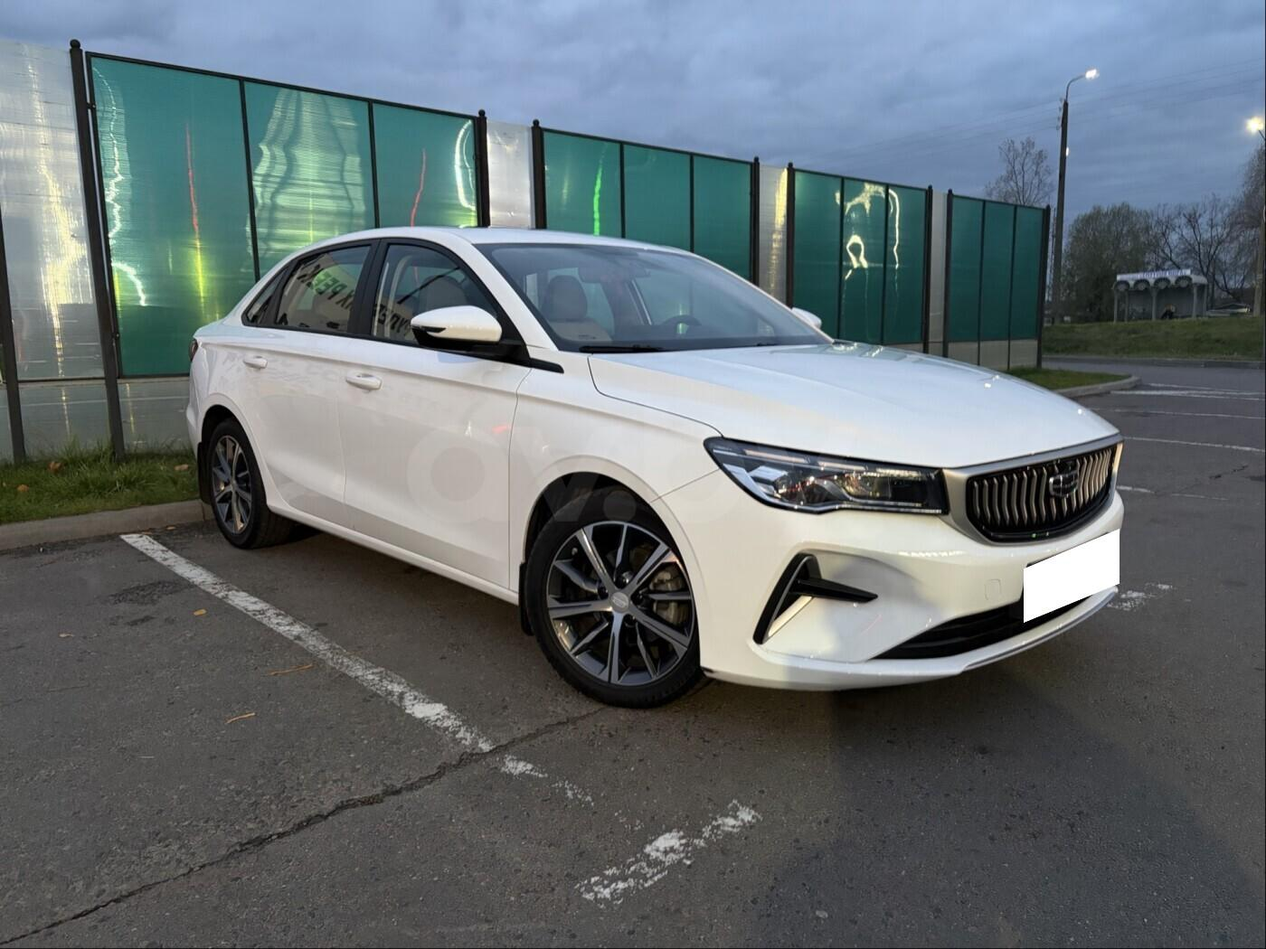Emgrand_2021: (178, 222, 1126, 715)
